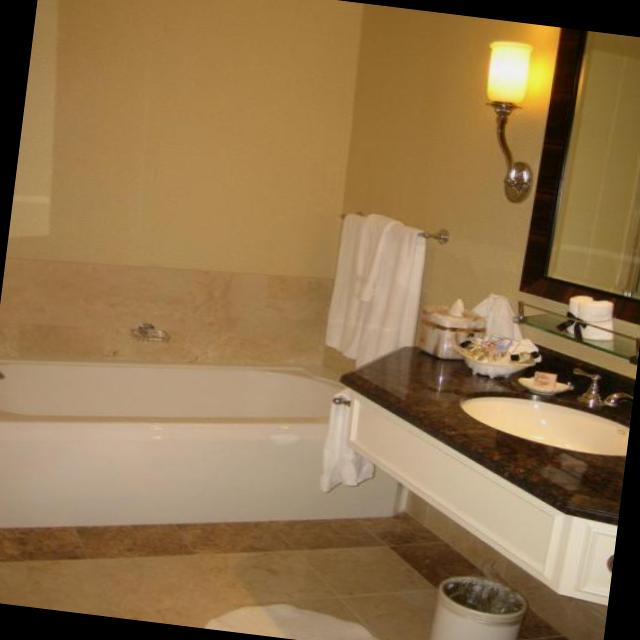curtains: (322, 208, 432, 374)
lamps: (470, 37, 550, 203)
pots: (424, 571, 531, 640), (414, 301, 490, 364)
rugs: (198, 591, 432, 640)
shelves: (510, 299, 640, 380)
window: (515, 26, 640, 334)
